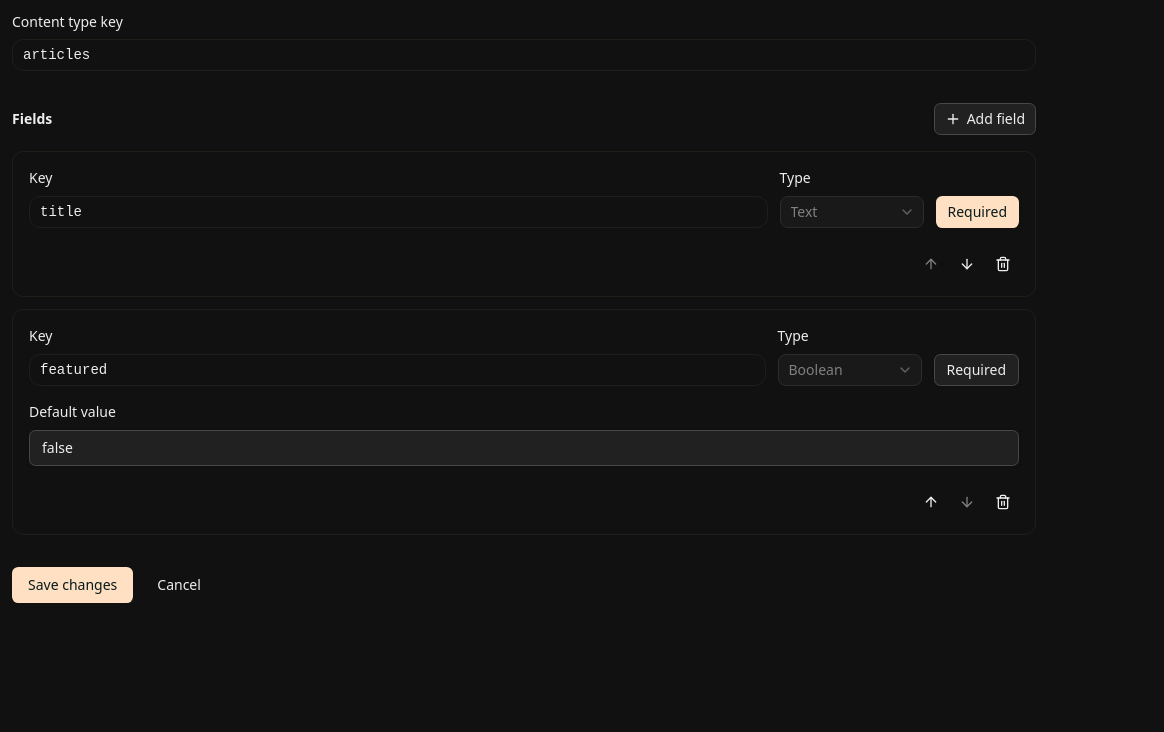
Test case: ContentTypeForm › initializes edit mode from the current schema and preserves defaults
Check: the field labelled "Default value" is shown, box [29,430,1019,466]
Check: the button named "Move featured down" is disabled, box [951,486,983,518]
Click the button named "Move featured up".
click(931, 502)  # box [915,486,947,518]
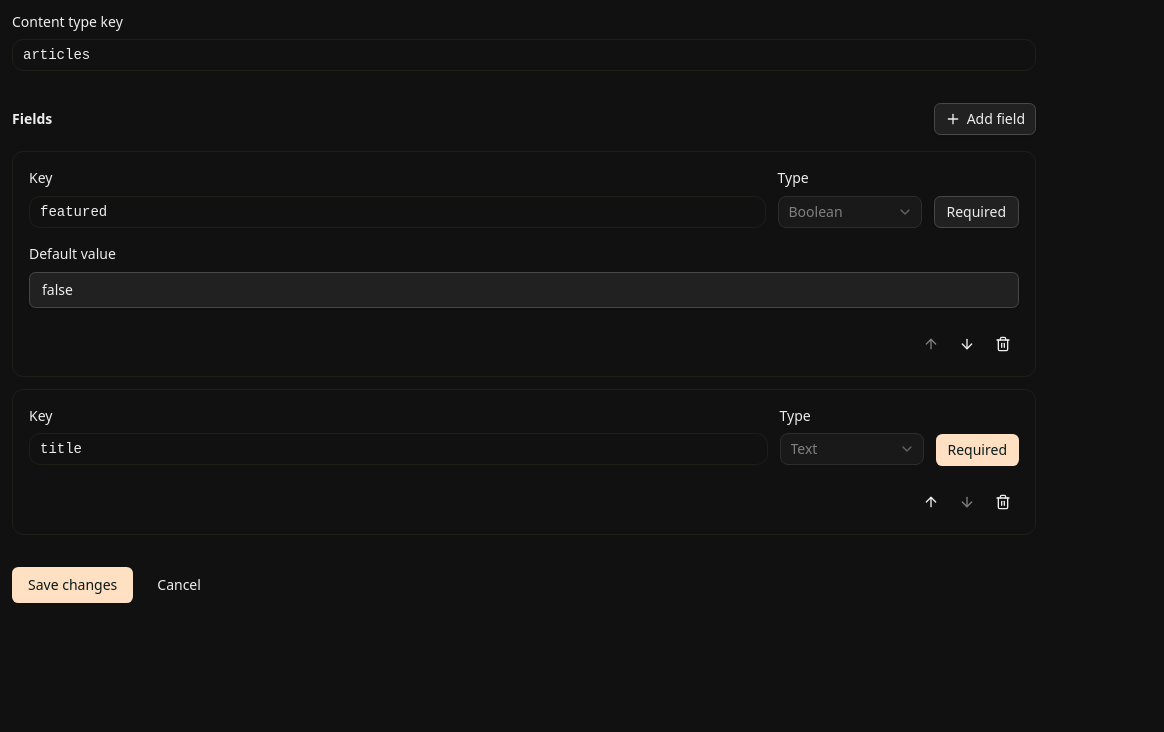
Check: the text "title" reads "featured", box [40,204,107,220]
